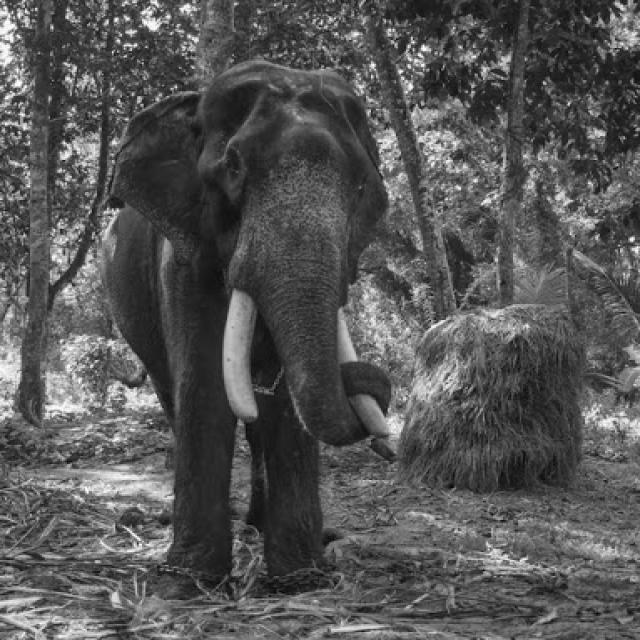Elephant: (99, 57, 396, 594)
